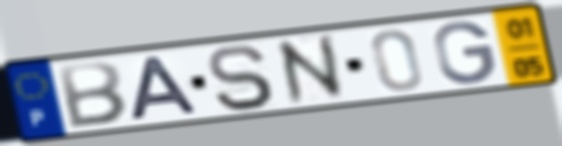0: (369, 27, 426, 94)
A: (125, 54, 204, 123)
B: (55, 59, 130, 130)
G: (431, 19, 499, 88)
N: (271, 31, 352, 109)
S: (204, 42, 278, 113)
